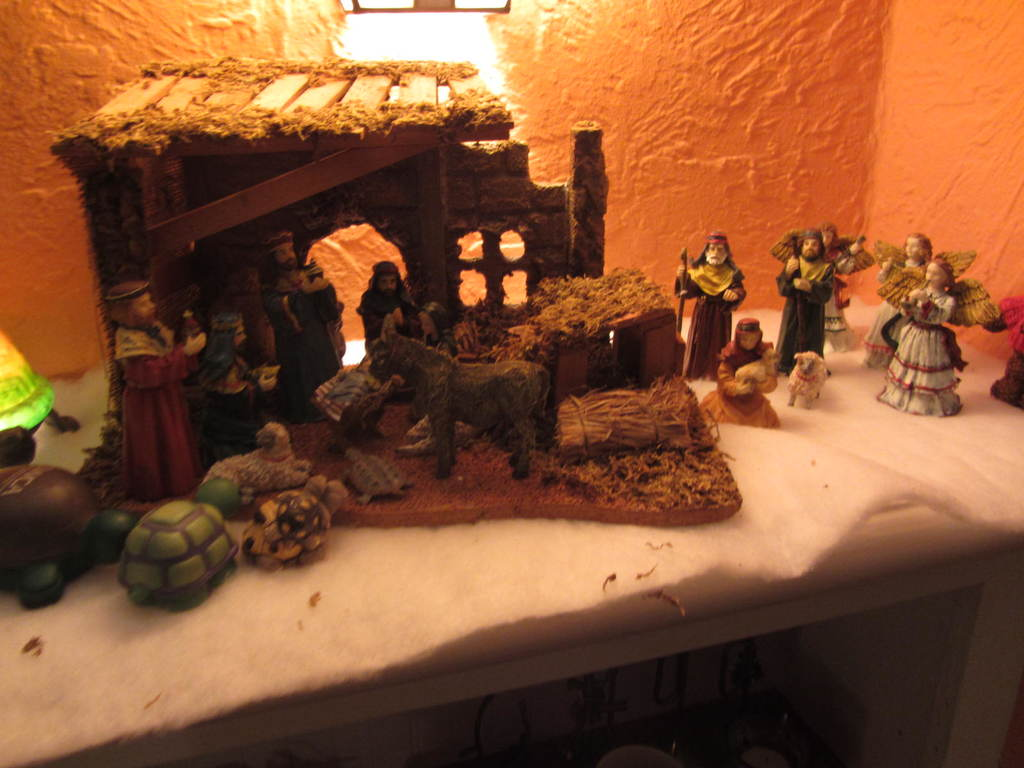Person: (104, 221, 1023, 502), (677, 230, 745, 380)
